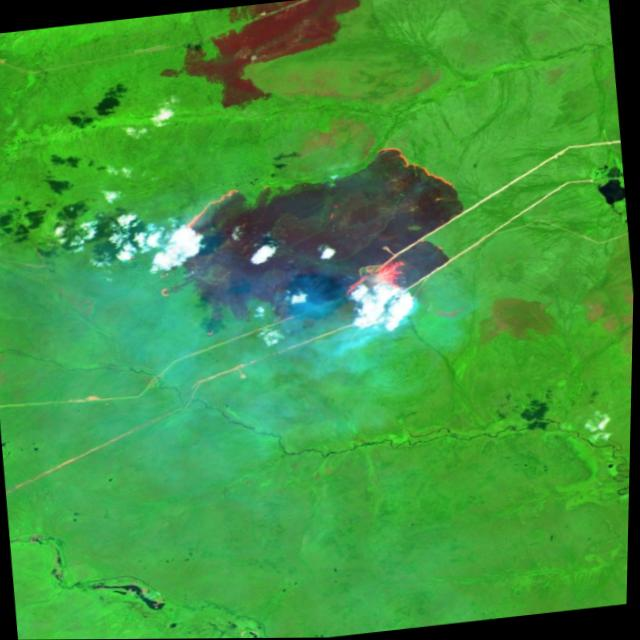fire: (137, 134, 489, 354)
